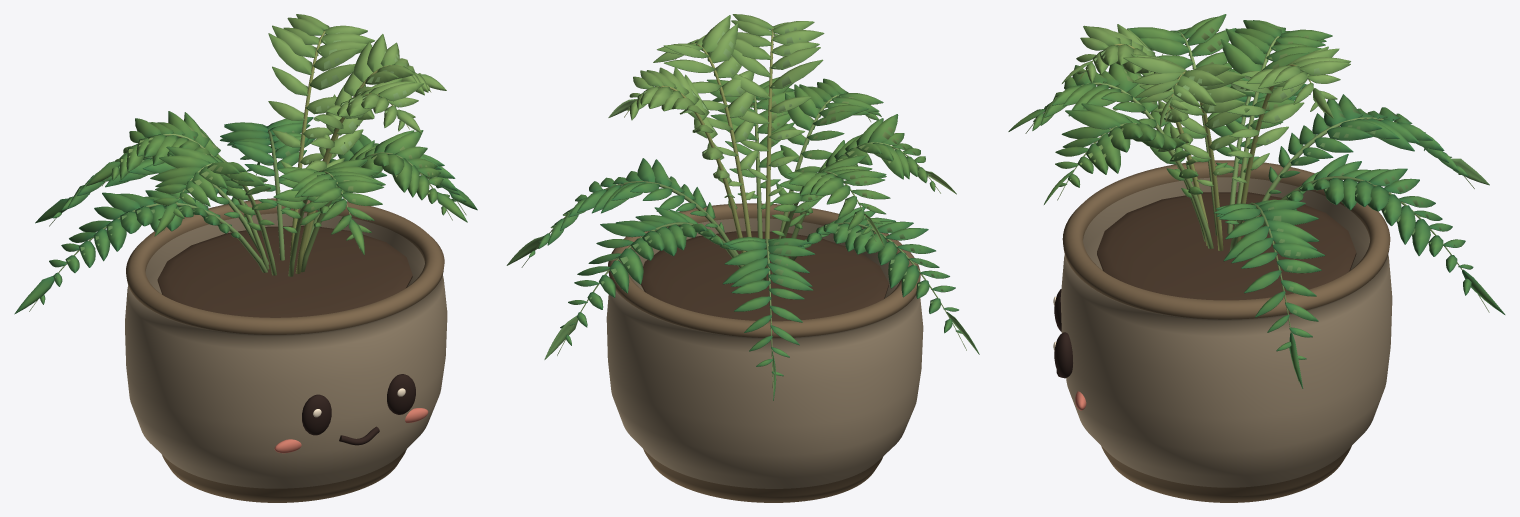
Rendered from boston-fern-v1.glb.
The picture shows the model from 3 angles, left to right: view 1: azimuth 30°, elevation 25°; view 2: azimuth 150°, elevation 25°; view 3: azimuth 270°, elevation 25°; orthographic projection. The views are drawn at different scales.
Parts seen in each view (by area): view 1: Wheel-thrown ceramic, Foliage draw mesh, Soil, Eye, Eye.001; view 2: Wheel-thrown ceramic, Foliage draw mesh, Soil; view 3: Wheel-thrown ceramic, Foliage draw mesh, Soil, Eye.001.
Boxes of the visible parts, x1,y1,x2,y2 form: Wheel-thrown ceramic: (125, 198, 447, 502); Foliage draw mesh: (14, 14, 477, 314); Soil: (157, 226, 412, 317); Eye: (302, 394, 331, 435); Eye.001: (387, 374, 415, 414); Wheel-thrown ceramic: (606, 203, 923, 502); Foliage draw mesh: (506, 14, 979, 400); Soil: (641, 231, 888, 321); Wheel-thrown ceramic: (1060, 160, 1392, 502); Foliage draw mesh: (1008, 14, 1505, 388); Soil: (1097, 192, 1356, 300); Eye.001: (1054, 332, 1072, 378).
Size of the model in its own units: 2.69 by 2.18 by 2.24.
